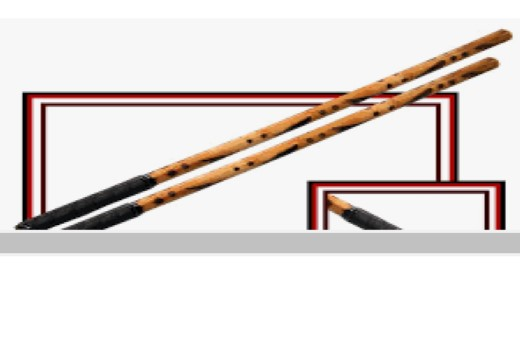baston_e: (115, 41, 456, 190), (192, 67, 450, 195)
baston_v: (60, 212, 119, 241), (12, 204, 57, 240), (488, 22, 517, 46), (480, 49, 504, 78)
